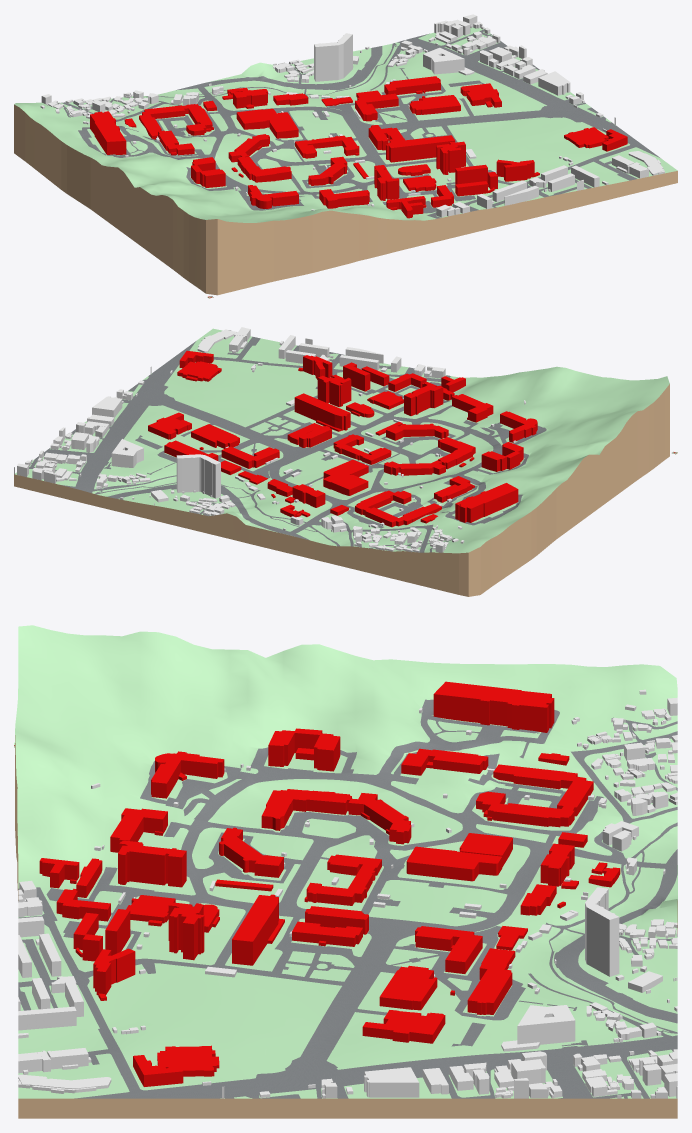
The model's file is City.glb.
3 renders of one model, top to bottom at view 1: azimuth 30°, elevation 25°; view 2: azimuth 150°, elevation 25°; view 3: azimuth 270°, elevation 25°, orthographic. The views are drawn at different scales.
Parts seen in each view (by area): view 1: 학교; view 2: 학교; view 3: 학교.
Part boxes in pixels (<box>): 학교: <box>14,14,677,295</box>; 학교: <box>14,327,669,596</box>; 학교: <box>15,625,677,1118</box>.
Bounding box in the file's own units: 804313 × 125058 × 602028.
10 materials, 2 textured.
